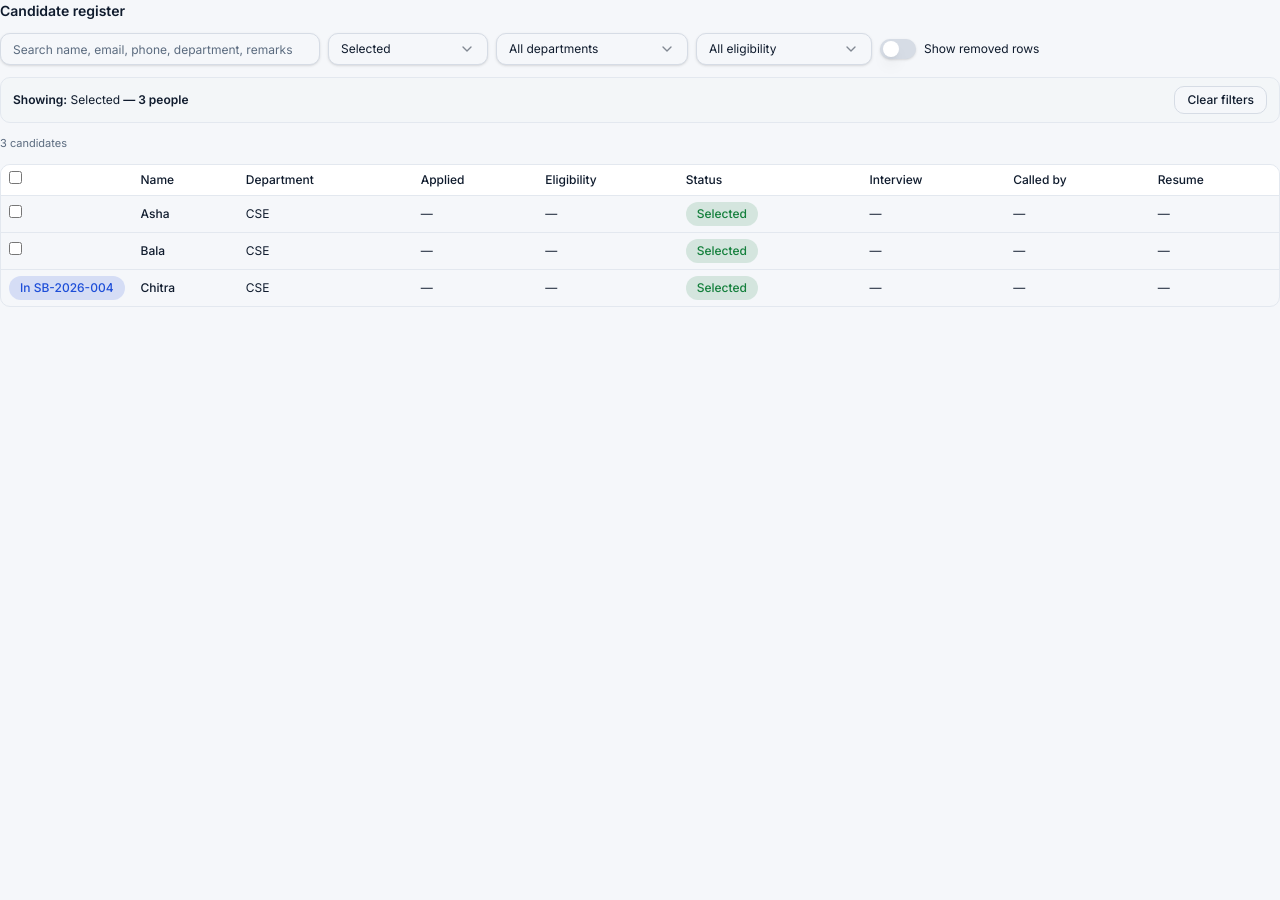
Test case: TalentPoolRegister batch selection › select-all skips people already in a batch and submits the right payload
Check: the text "In SB-2026-004" is shown, box [9,276,124,300]
Click the checkbox named "Select all on this page".
click(16, 177)  # box [9,170,22,184]
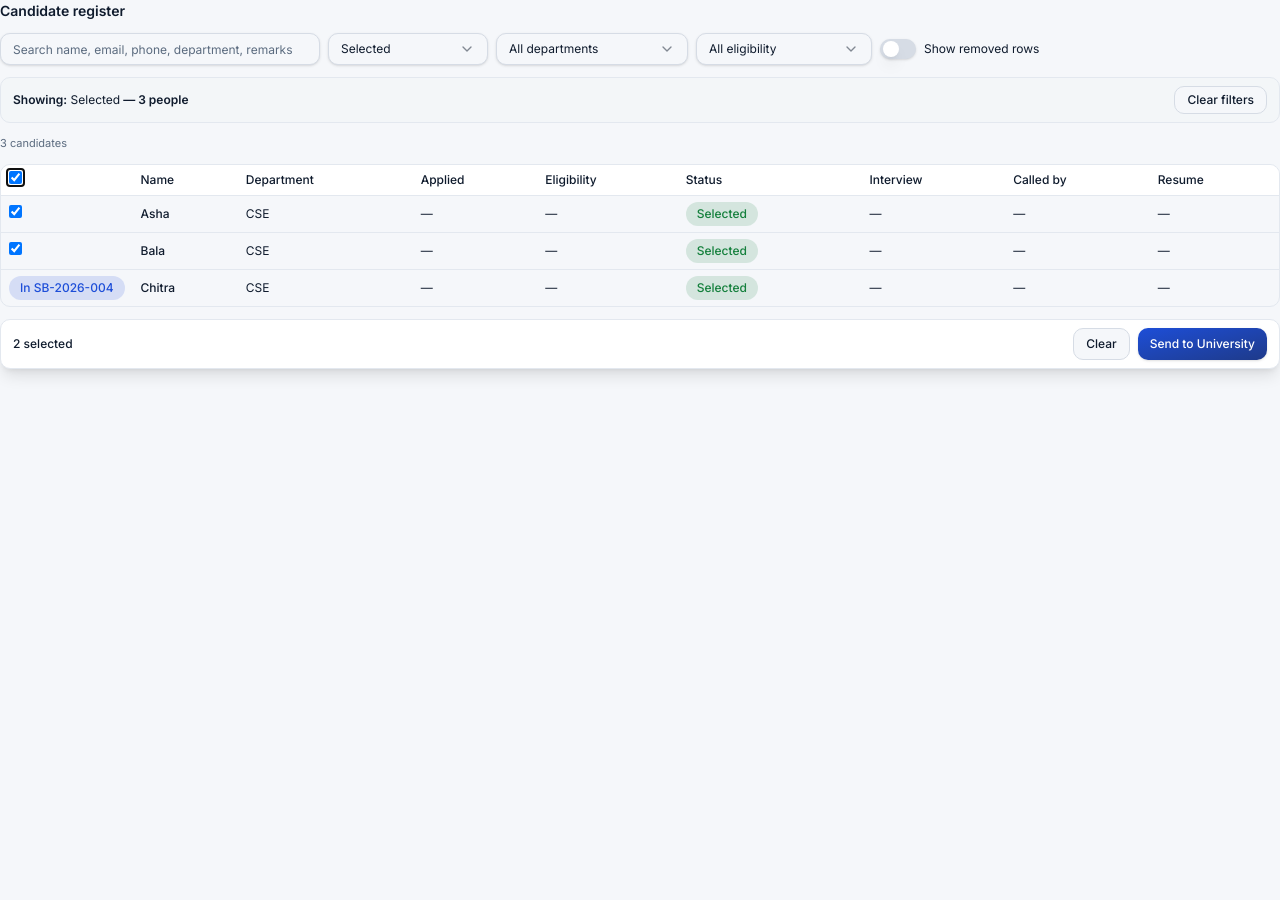
Check: the text "2 selected" is shown, box [13,334,73,352]
Click the button "Send to University".
click(1202, 344)  # box [1138,328,1267,360]
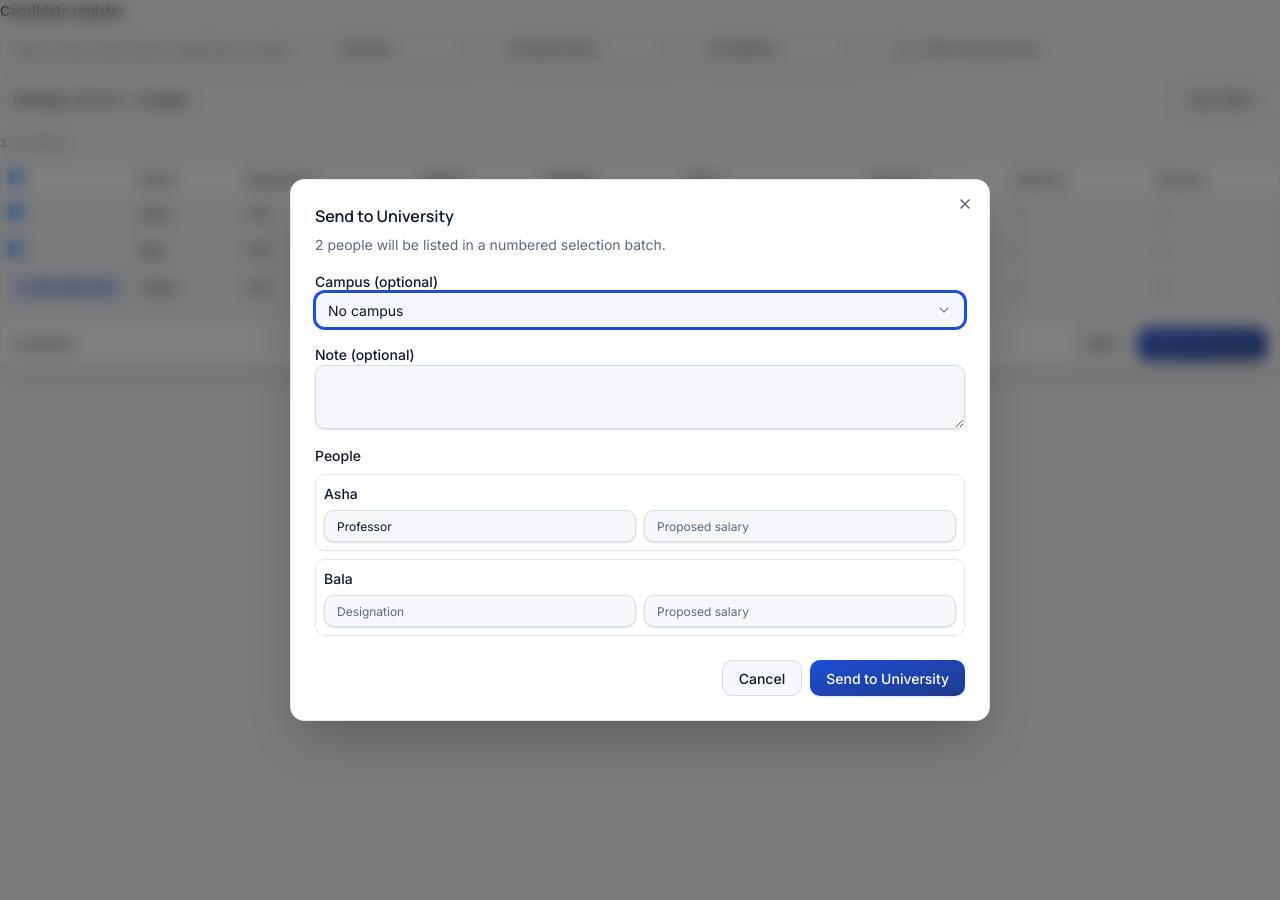
Check: the field named "Designation for Asha" holds "Professor", box [324,510,636,542]
Type "55000" into the field named "Proposed salary for Bala".
click(800, 611); type("55000")  # box [644,595,956,627]
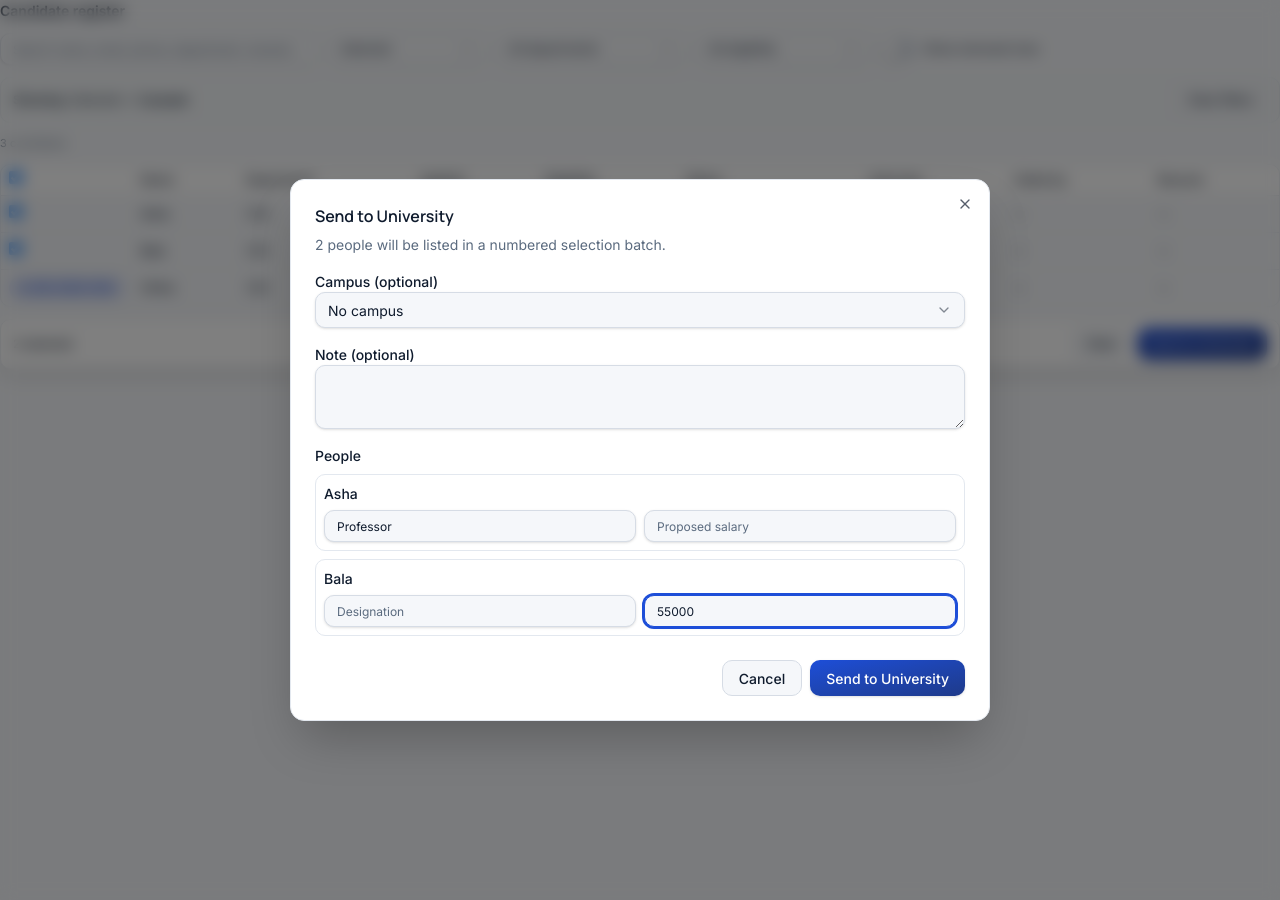
Type "First list" into the text box labelled "Note (optional)".
click(640, 397); type("First list")  # box [315,365,965,429]
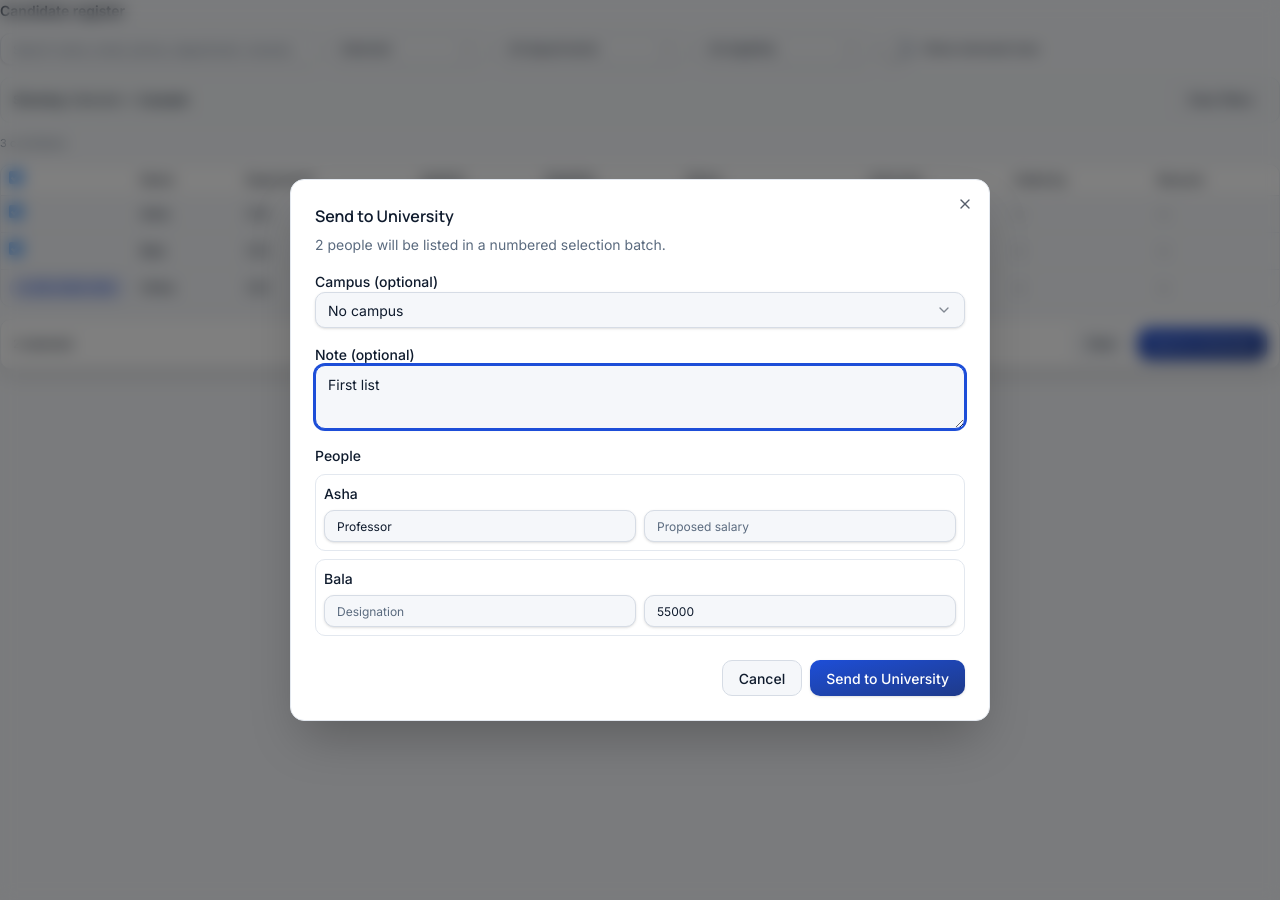
Click the button "Send to University".
click(888, 678)  # box [810,660,965,696]
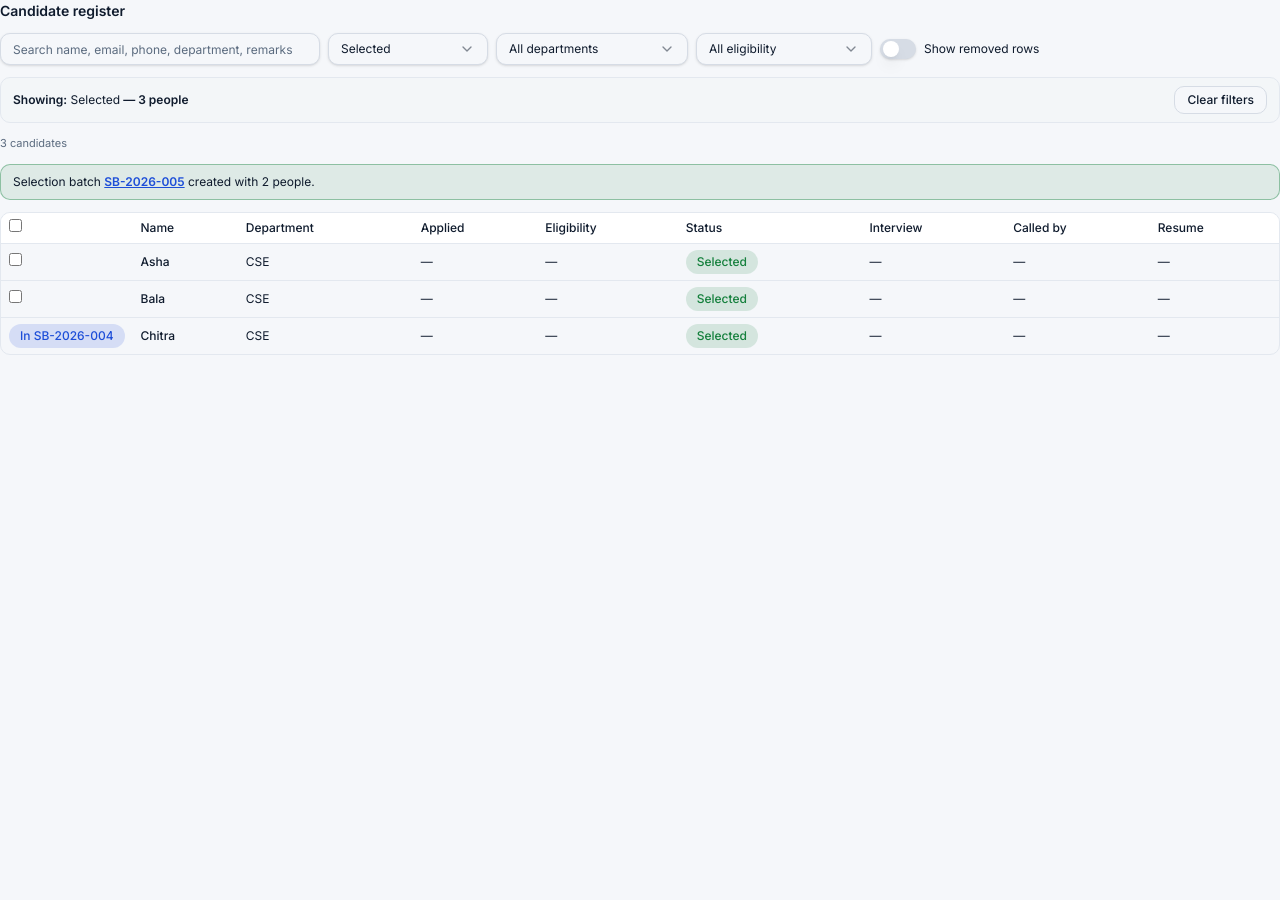
Check: the text "2 selected" is gone
